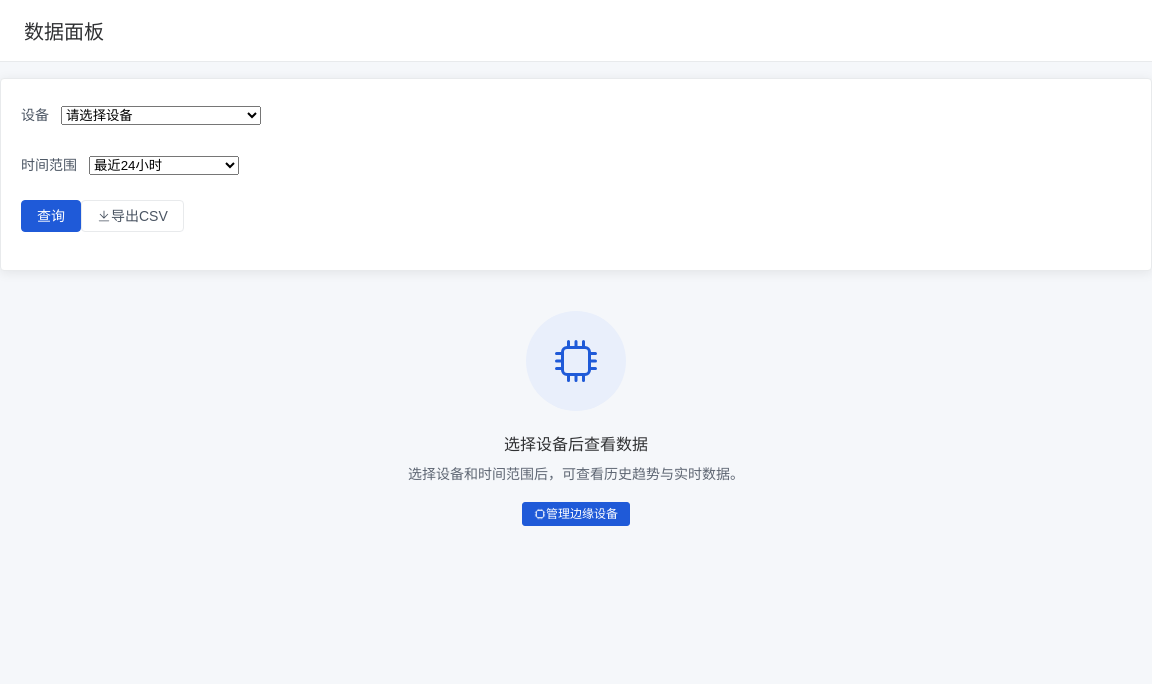
DataPanel › 范围词与分页器总数并排时不再产生「全量」歧义
Select "设备 1" in the 1st dropdown. click: coordinates (161, 115)
box: [61,106,261,124]
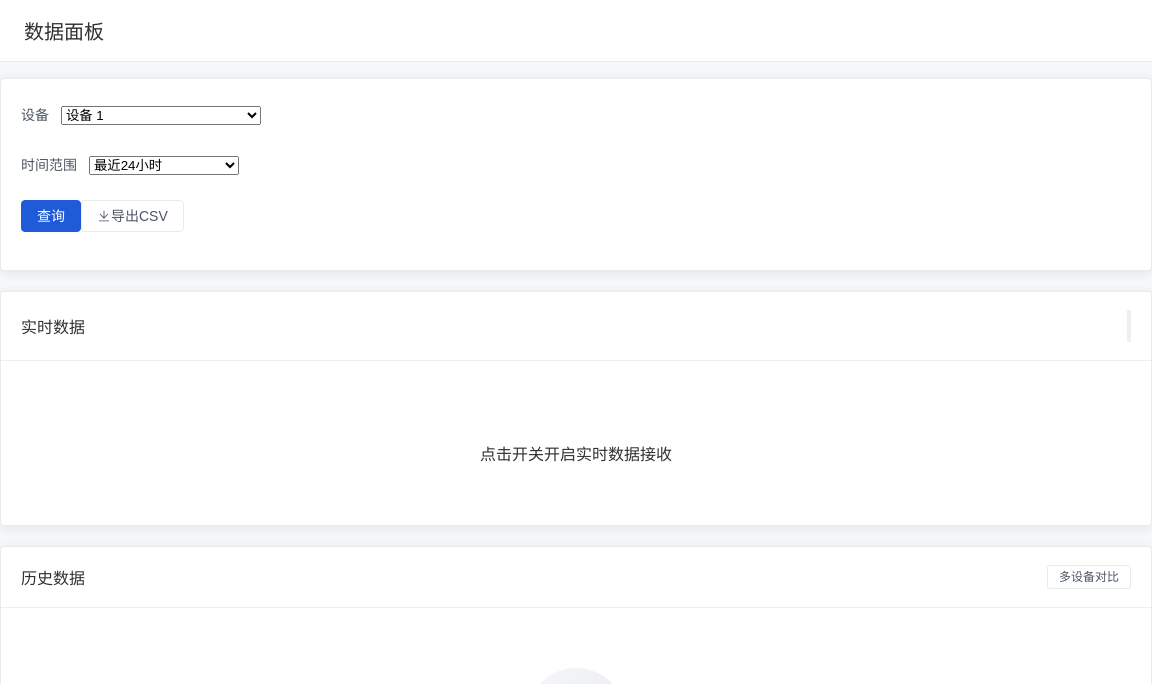
Click the button "查询". click: coordinates (51, 216)
box: [21,200,81,232]
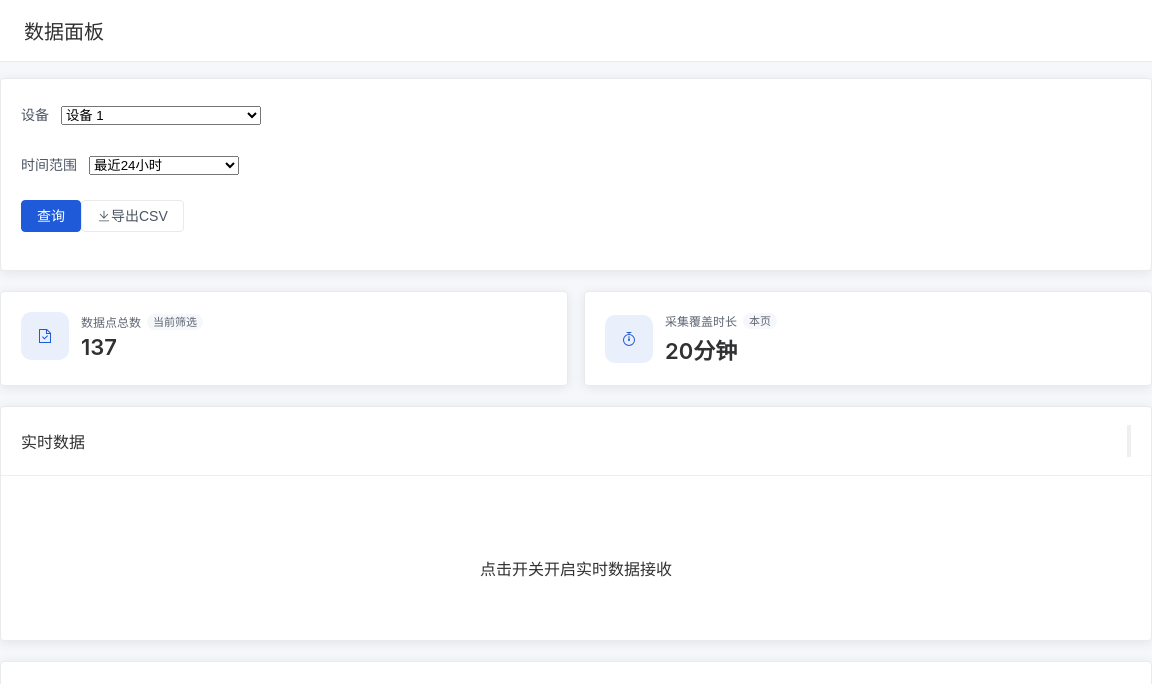
Expected: the element with class "stat-label" does not show "采集覆盖时长"
Now the element with class "stat-label" shows "本页", box [749,314,771,328]
